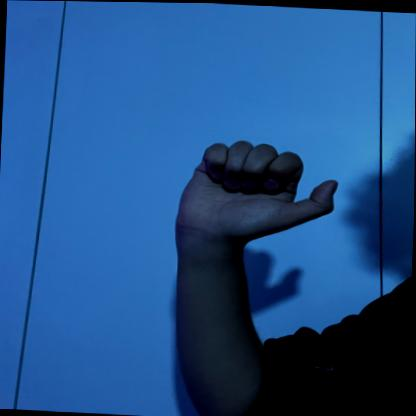E: (169, 132, 345, 242)
